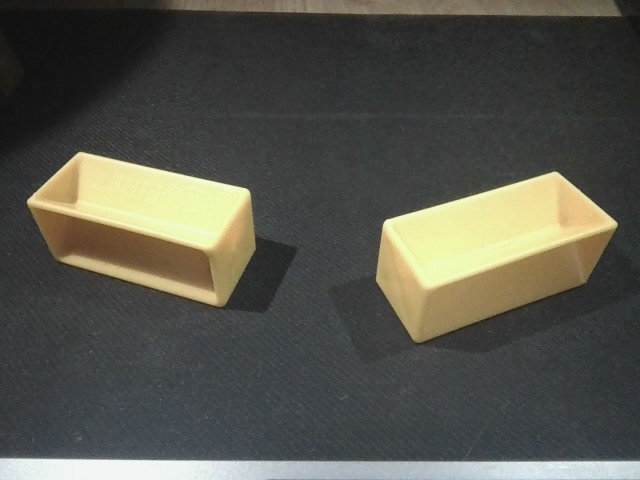YellowSample: (372, 169, 621, 349), (23, 148, 262, 316)
